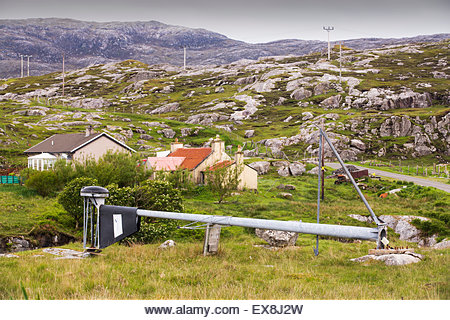faulty: (198, 210, 398, 253)
